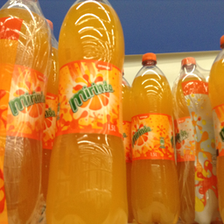soda: (48, 1, 127, 224), (1, 1, 49, 223), (128, 53, 179, 224), (175, 57, 216, 224)
